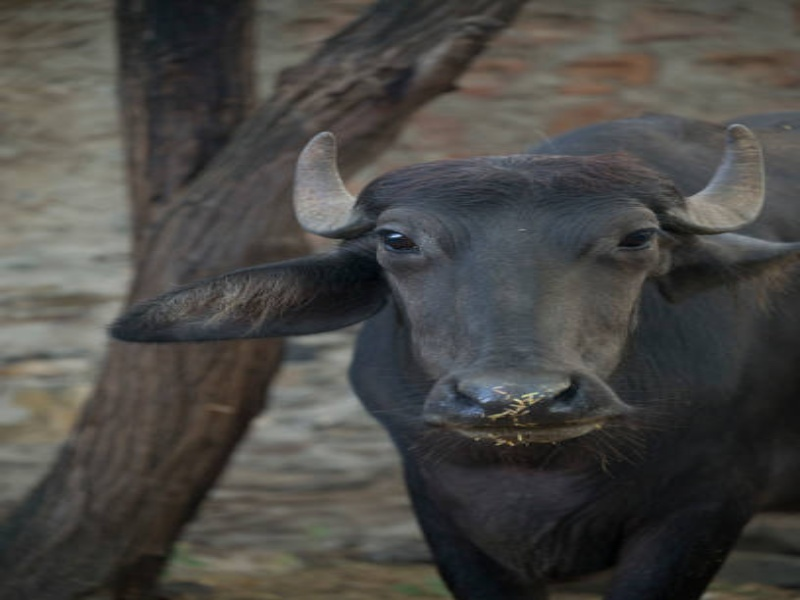buffalo: (124, 123, 794, 596)
